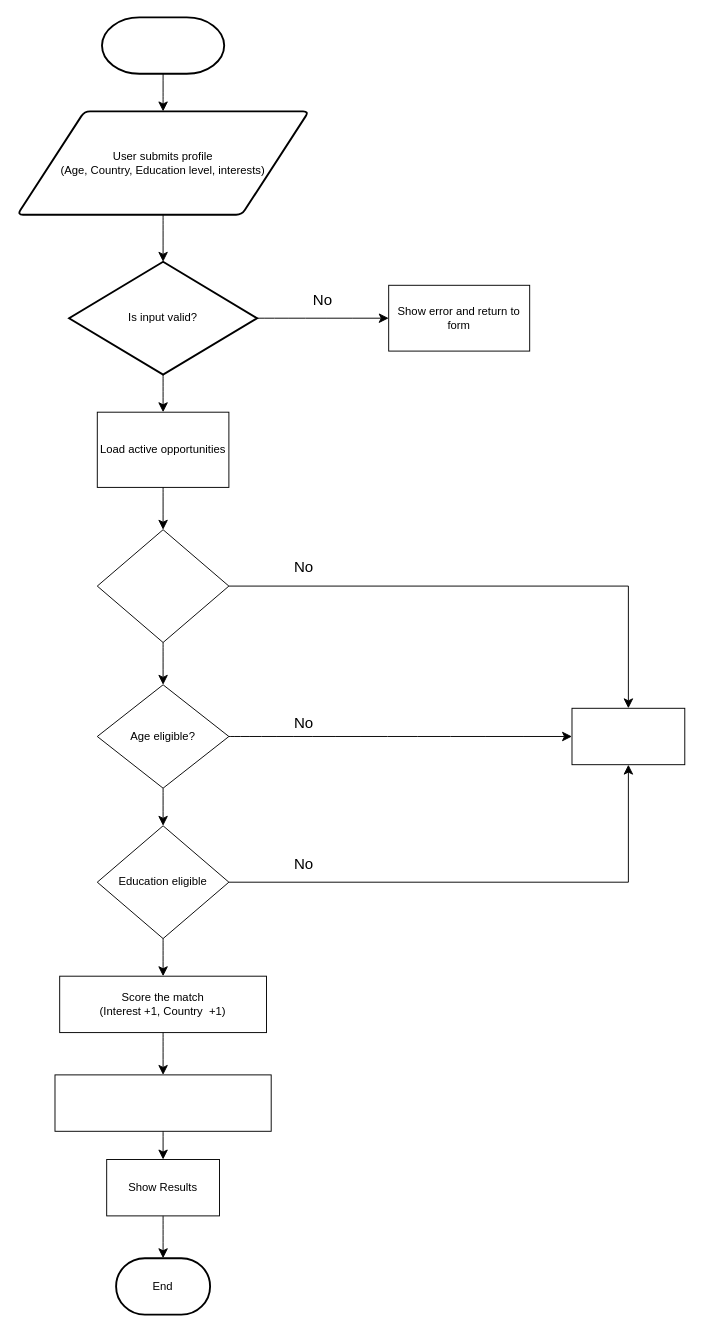
The diagram is 701 pixels wide and 1331 high, and some of its shapes have lost their labels. Each missing label, with the centre of its shape:
"Country eligible?" goes at [162,585].
"Skip opportunity" goes at [628,736].
"Sort results (Highest score first then deadline)" goes at [162,1102].
"Start" goes at [163,45].
